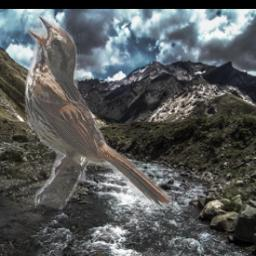Sparrow: (25, 13, 172, 209)
